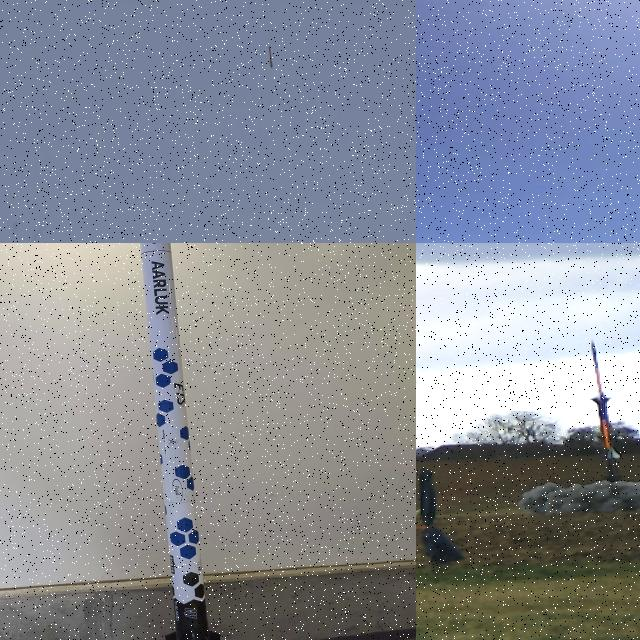Rocket: (139, 243, 221, 640), (590, 341, 622, 459), (269, 47, 273, 68)
